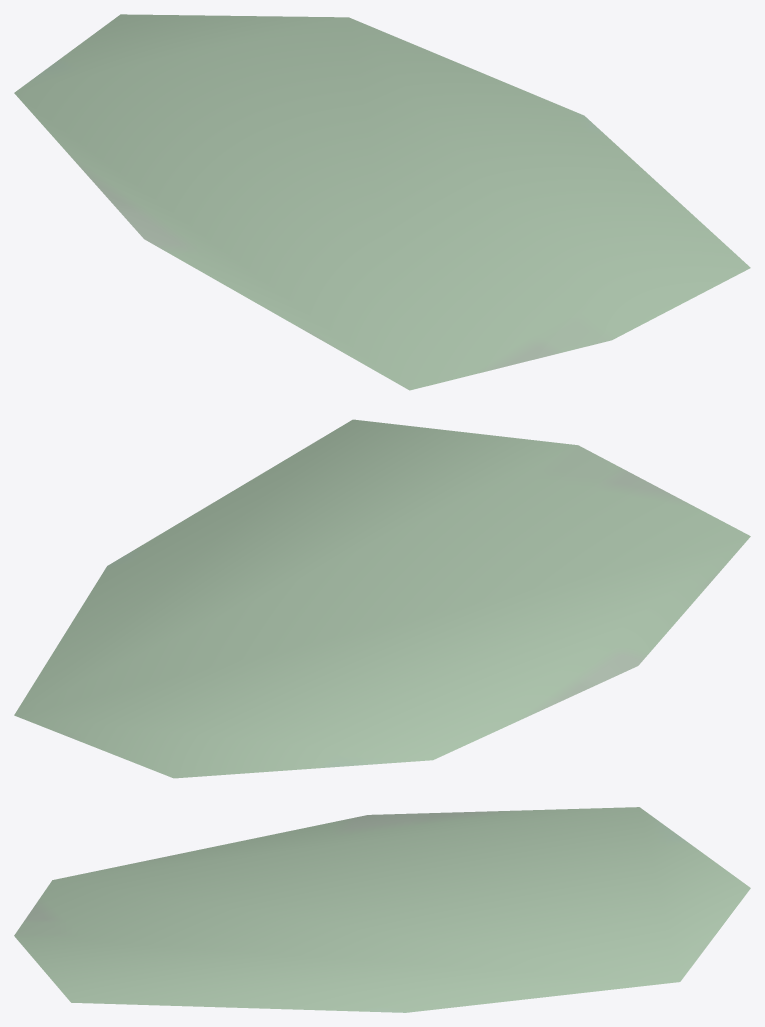
The model's file is TROLLHOLE02_HOLECAP73.fbx.
3 views of the same model, one above another, from view 1: azimuth 30°, elevation 25°; view 2: azimuth 150°, elevation 25°; view 3: azimuth 270°, elevation 25° (orthographic). The views are drawn at different scales.
Visible parts, largest first — view 1: TROLLHOLE02_HOLECAP73; view 2: TROLLHOLE02_HOLECAP73; view 3: TROLLHOLE02_HOLECAP73.
Boxes of the visible parts, bbox=[...] form: TROLLHOLE02_HOLECAP73: bbox=[14, 14, 750, 390]; TROLLHOLE02_HOLECAP73: bbox=[14, 419, 750, 778]; TROLLHOLE02_HOLECAP73: bbox=[14, 807, 750, 1012].
Bounding box in the file's own units: 15549 × 1913 × 25057.
Materials: 1 (1 with a texture image).
